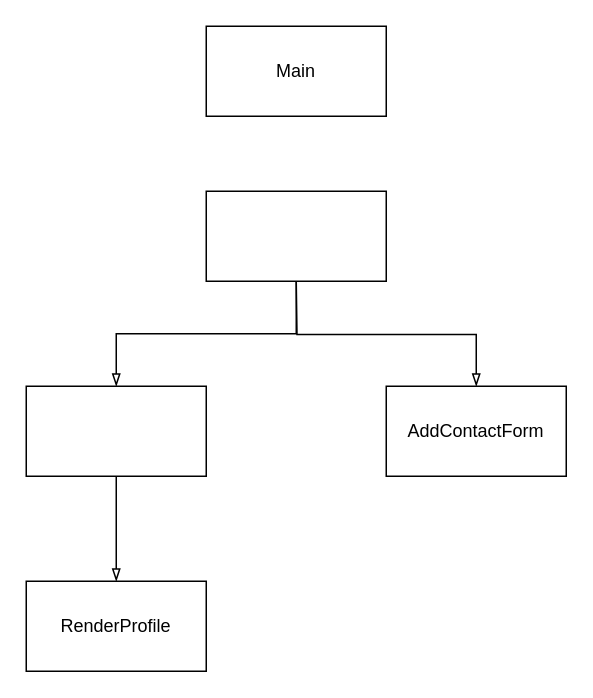
Image size: 593x698. Some labels were removed from this diagram. The box of each missing label's shape, as (x1, y1, x2, y2) in pixels:
App: (205, 190, 386, 281)
Dashboard: (25, 385, 206, 476)
